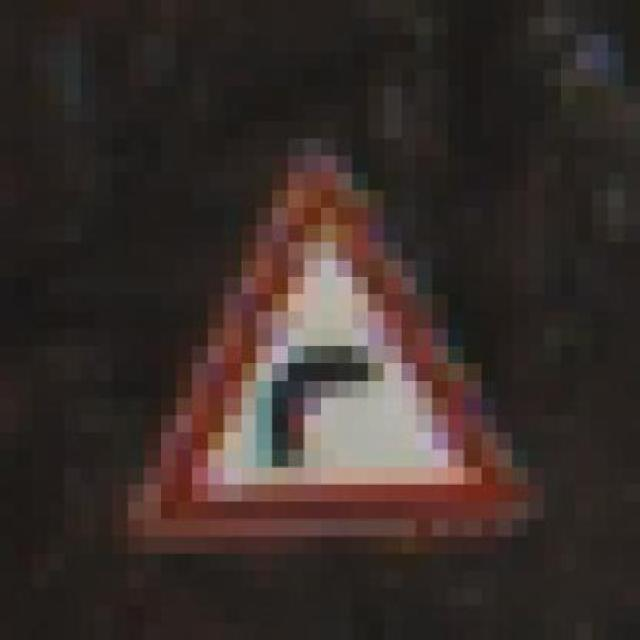Dangerous Rright Curve Ahead: (111, 121, 544, 553)
